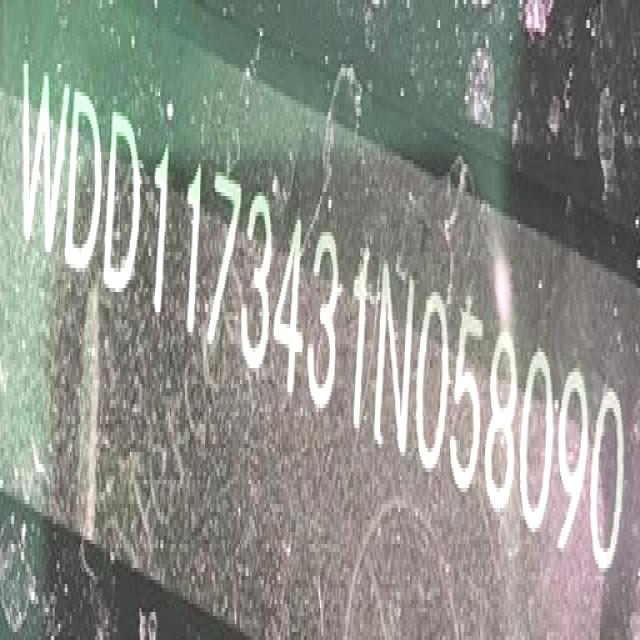0: (520, 332, 557, 543), (592, 370, 628, 584), (416, 278, 453, 486)
1: (347, 237, 375, 451), (148, 135, 177, 341), (182, 155, 208, 353)
3: (308, 212, 344, 430), (241, 178, 272, 386)
4: (275, 193, 312, 411)
5: (452, 288, 486, 508)
7: (208, 166, 242, 375)
8: (483, 314, 521, 522)
9: (555, 349, 592, 569)
D: (105, 101, 144, 310), (68, 79, 104, 281)
N: (369, 249, 422, 471)
W: (20, 44, 71, 260)
